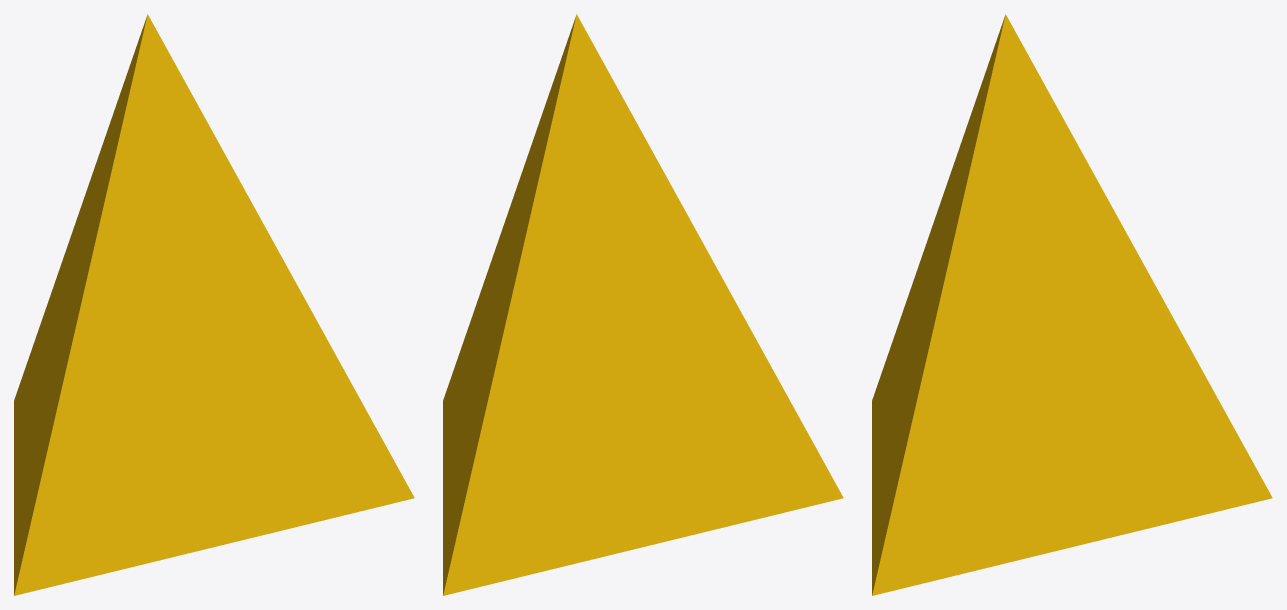
Rendered from triangleSolid.glb.
The picture shows the model from 3 angles, left to right: view 1: azimuth 30°, elevation 25°; view 2: azimuth 150°, elevation 25°; view 3: azimuth 270°, elevation 25°; orthographic projection.
Parts seen in each view (by area): view 1: Cone; view 2: Cone; view 3: Cone.
Part boxes in pixels (x1,y1,x2,y2): Cone: (14, 14, 414, 595); Cone: (443, 14, 843, 595); Cone: (872, 14, 1272, 595).
Size of the model in its own units: 3.14 by 3.62 by 2.72.
